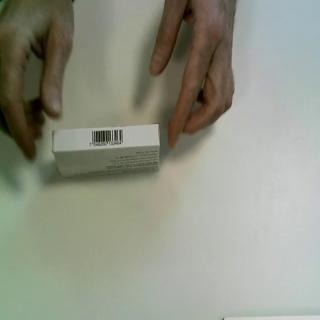oxycontin5mg: (49, 122, 163, 180)
